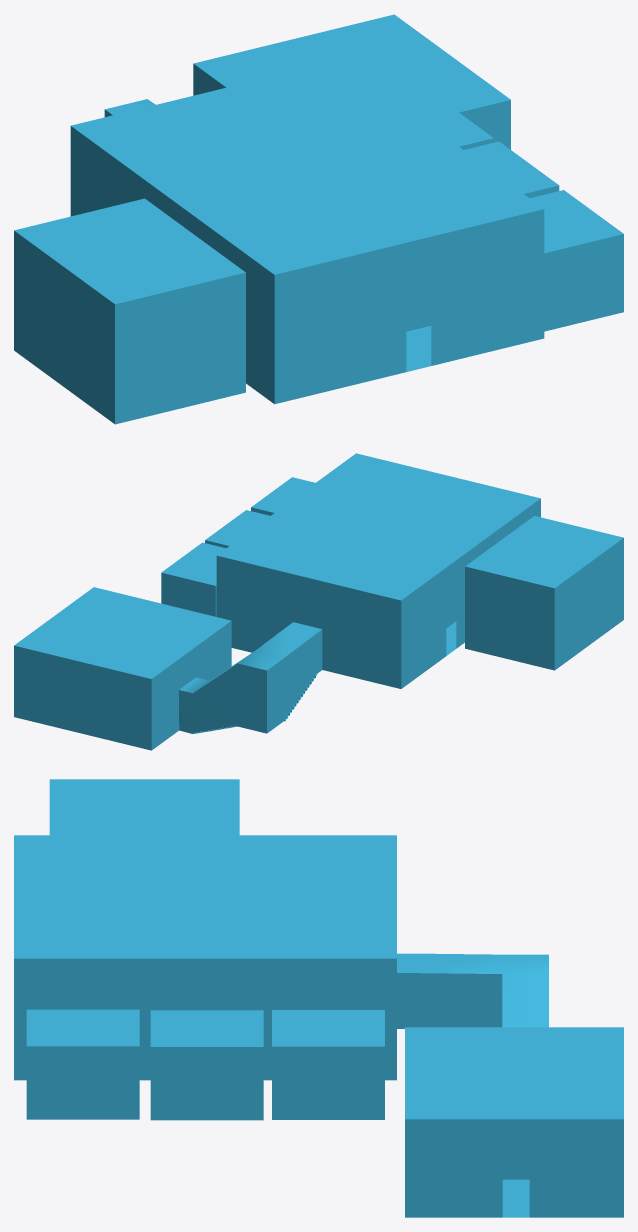
Rendered from Zone4_Map.fbx.
3 views of the same model, one above another, from view 1: azimuth 30°, elevation 25°; view 2: azimuth 150°, elevation 25°; view 3: azimuth 270°, elevation 25° (orthographic). The views are drawn at different scales.
Visible parts, largest first — view 1: Zone4MAP; view 2: Zone4MAP; view 3: Zone4MAP.
Part boxes in pixels (x1,y1,x2,y2): Zone4MAP: (14,14,623,424); Zone4MAP: (14,453,623,750); Zone4MAP: (14,779,623,1217).
Size of the model in its own units: 3330 by 1035 by 3202.
